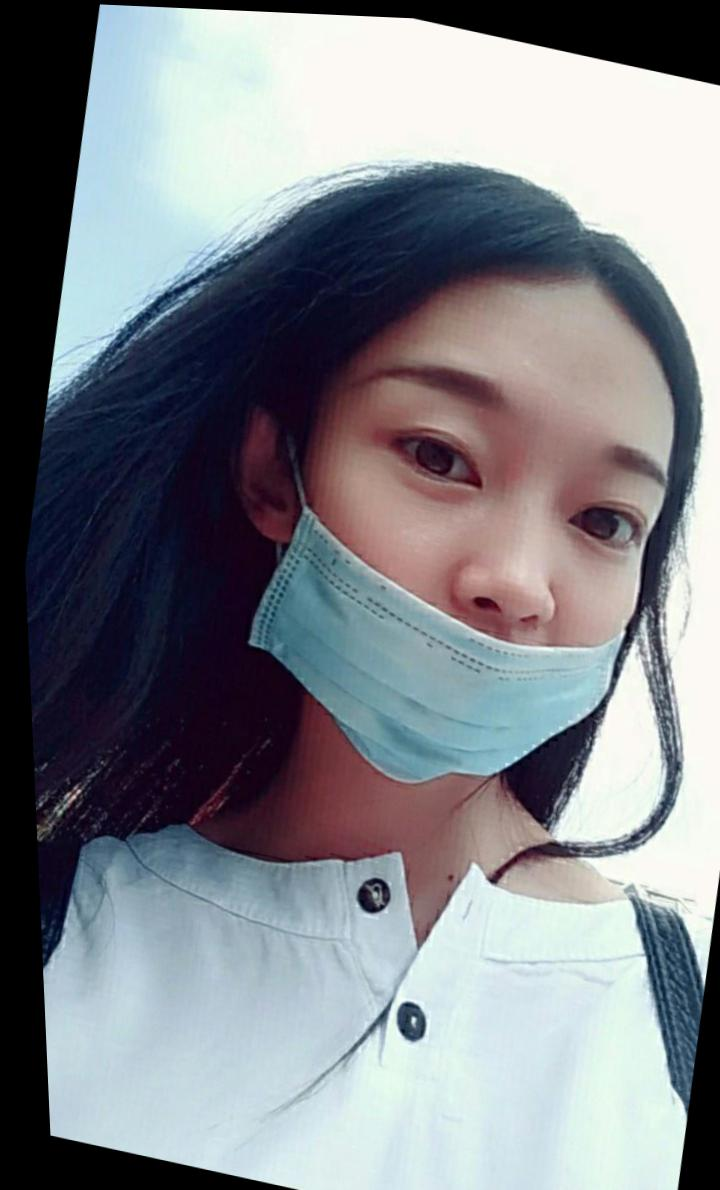WRONG: (226, 313, 687, 818)
